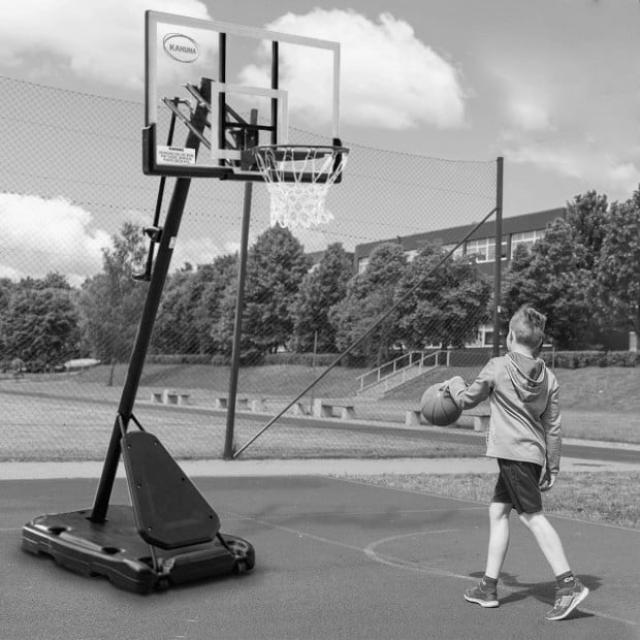backboard: (142, 13, 342, 180)
